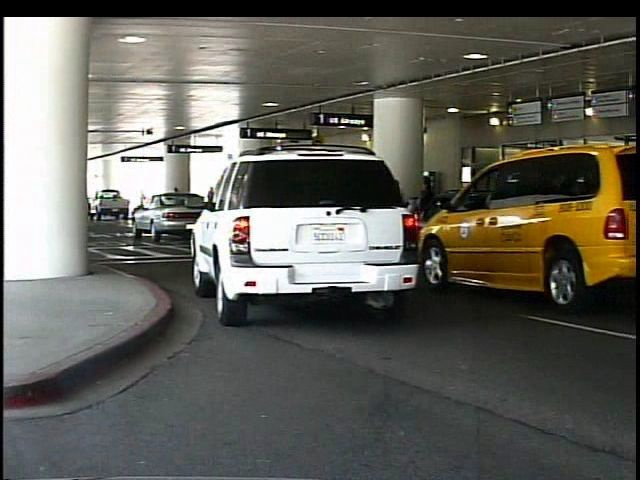person: (532, 170, 562, 261)
